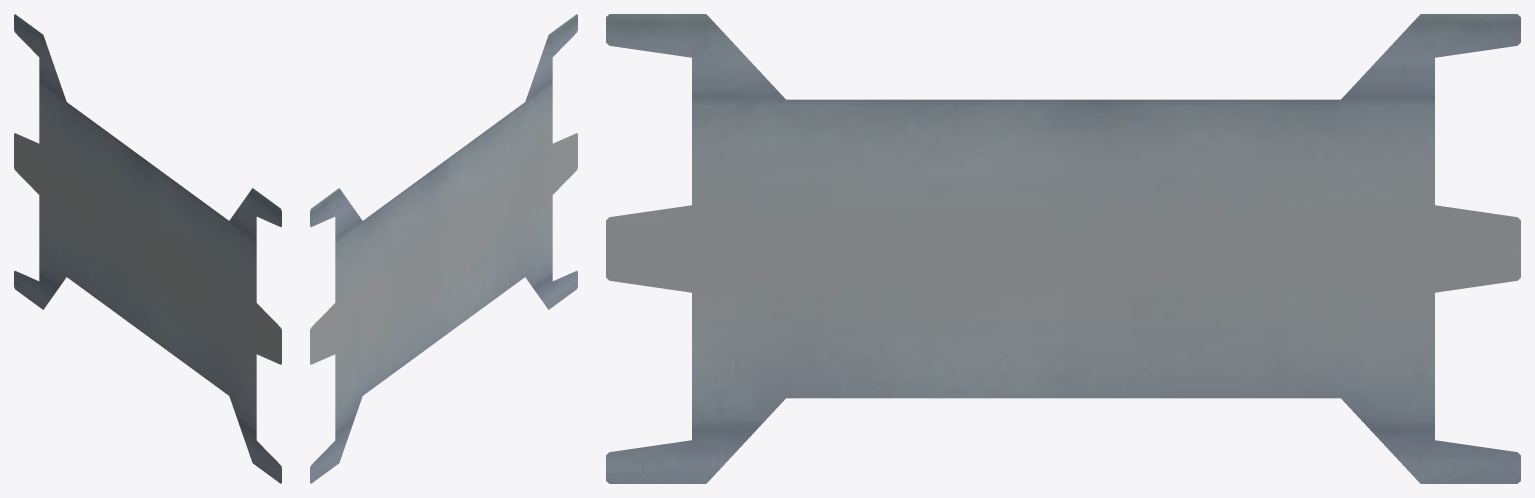
File: pm-track-01-tap.glb
3 views of the same model, side by side, from view 1: azimuth 30°, elevation 25°; view 2: azimuth 150°, elevation 25°; view 3: azimuth 270°, elevation 25° (orthographic). The views are drawn at different scales.
Parts seen in each view (by area): view 1: Track_01_Tap_Art; view 2: Track_01_Tap_Art; view 3: Track_01_Tap_Art.
Boxes of the visible parts, box(x1,y1,x2,y2) form: Track_01_Tap_Art: box(14, 14, 281, 483); Track_01_Tap_Art: box(310, 14, 577, 483); Track_01_Tap_Art: box(606, 14, 1520, 483).
Bounding box in the file's own units: 0 × 1.28 × 2.26.
Materials: 1 (1 with a texture image).
